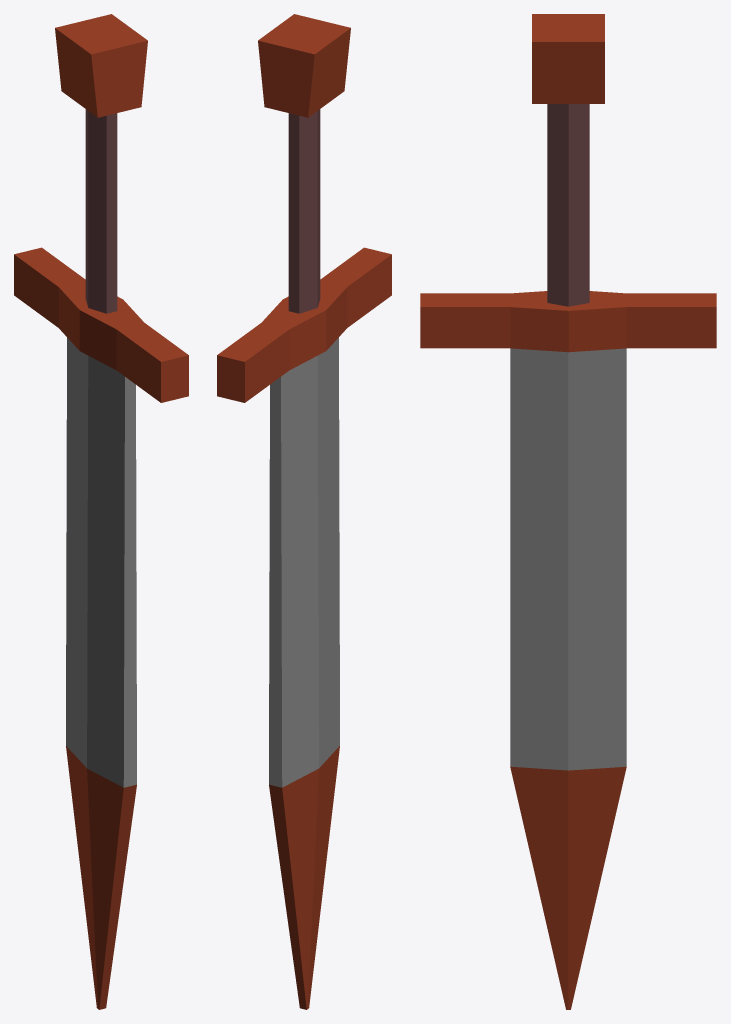
File: Schwert.fbx
3 renders of one model, left to right at view 1: azimuth 30°, elevation 25°; view 2: azimuth 150°, elevation 25°; view 3: azimuth 270°, elevation 25°, orthographic.
Parts seen in each view (by area): view 1: Cube.254; view 2: Cube.254; view 3: Cube.254.
Boxes of the visible parts, x1=… form: Cube.254: x1=14, y1=14, x2=188, y2=1009; Cube.254: x1=217, y1=14, x2=391, y2=1009; Cube.254: x1=420, y1=14, x2=716, y2=1009.
Size of the model in its own units: 9.48 by 155 by 42.5.
